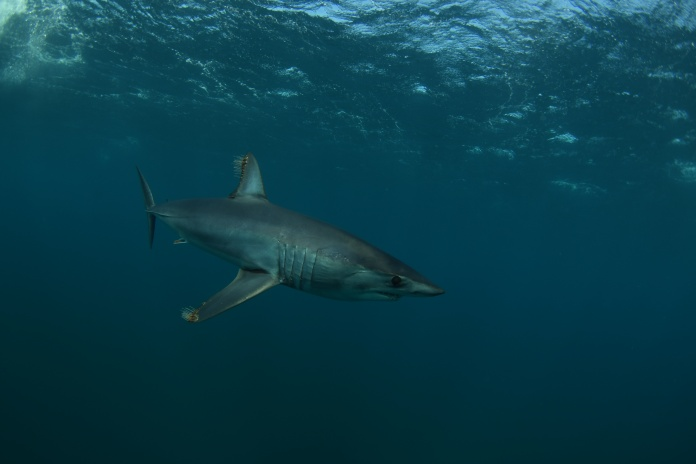Mako: (111, 146, 451, 327)
